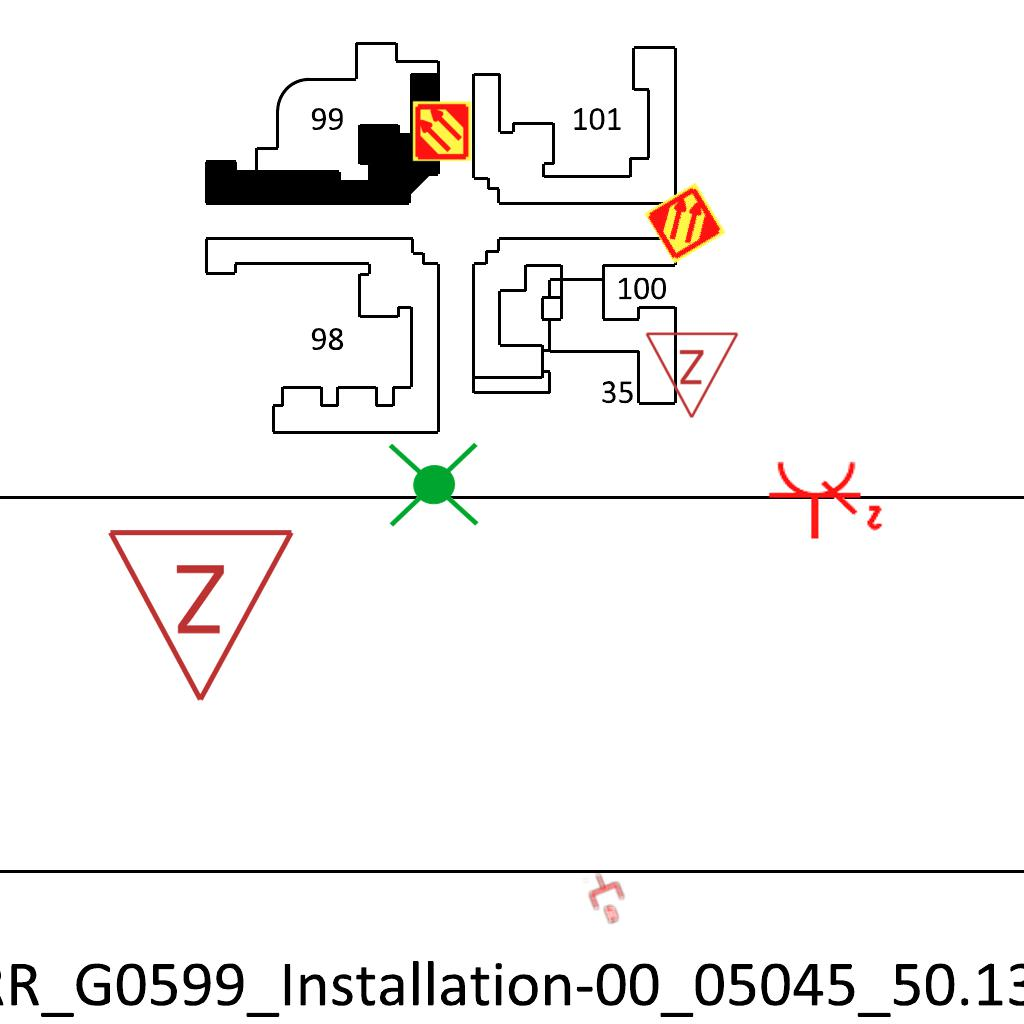ASR_Ansaugrauchmelder: (642, 180, 728, 266), (411, 100, 473, 162)
Datenanschluss_einfach: (581, 867, 633, 927)
Notlichtbaustein_in_Allgemeinbeleuchtug_engebaut_Einbau_(1UG_und_2UG_Aufbauvaria: (384, 432, 484, 535)
Schukosteckdose_mehrfach: (764, 457, 885, 545)
Zimmersignalleuchte: (105, 515, 301, 715), (644, 325, 742, 425)
